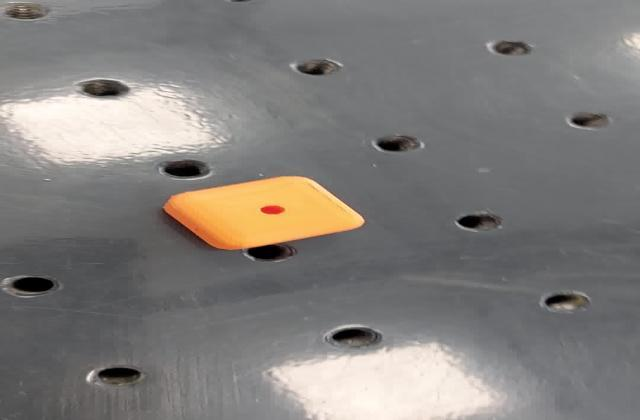cube: (152, 175, 374, 254)
